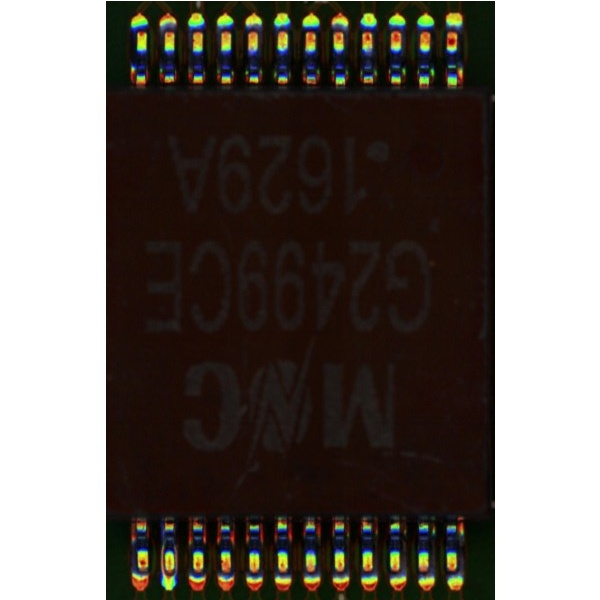Bad_qiaojiao: (160, 540, 165, 575), (174, 543, 178, 575)
